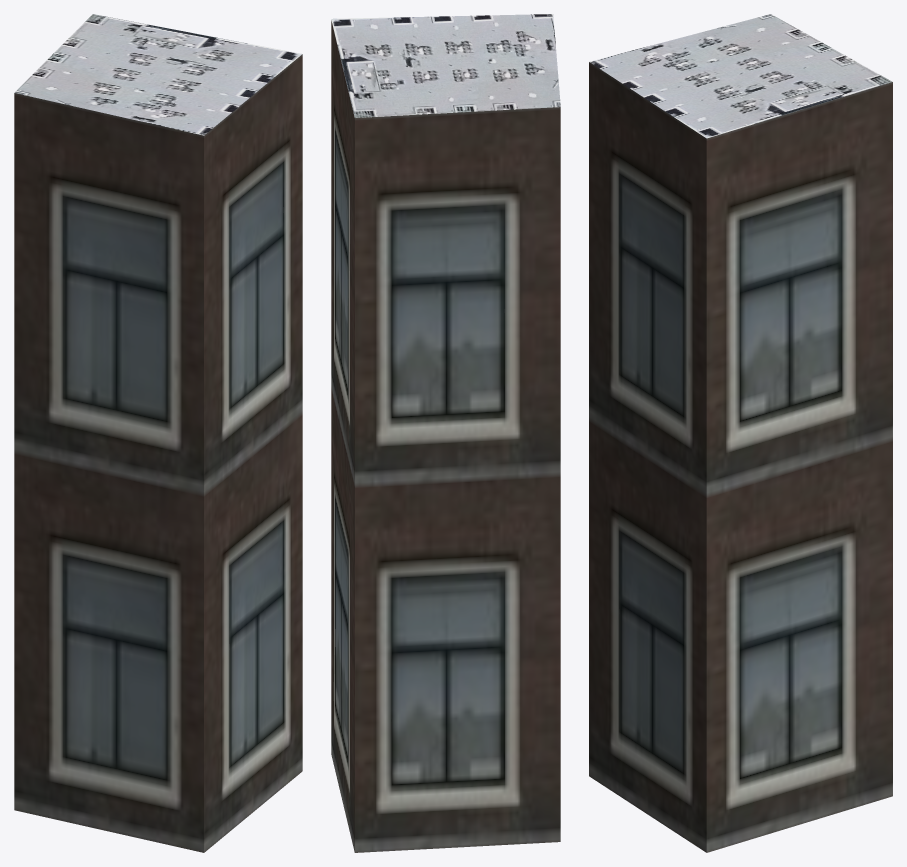
File: ResTex__1587.fbx
3 renders of one model, left to right at view 1: azimuth 30°, elevation 25°; view 2: azimuth 150°, elevation 25°; view 3: azimuth 270°, elevation 25°, orthographic. The views are drawn at different scales.
Visible parts, largest first — view 1: CityEngineMaterial_16_m, CityEngineMaterial_15_m; view 2: CityEngineMaterial_16_m, CityEngineMaterial_15_m; view 3: CityEngineMaterial_16_m, CityEngineMaterial_15_m.
Boxes of the visible parts, bbox=[...] form: CityEngineMaterial_16_m: bbox=[14, 54, 302, 852]; CityEngineMaterial_15_m: bbox=[14, 14, 302, 135]; CityEngineMaterial_16_m: bbox=[331, 20, 560, 852]; CityEngineMaterial_15_m: bbox=[331, 14, 560, 117]; CityEngineMaterial_16_m: bbox=[589, 62, 892, 852]; CityEngineMaterial_15_m: bbox=[589, 14, 892, 138].
Bounding box in the file's own units: 2.24 × 6 × 2.31.
2 materials, 2 textured.
